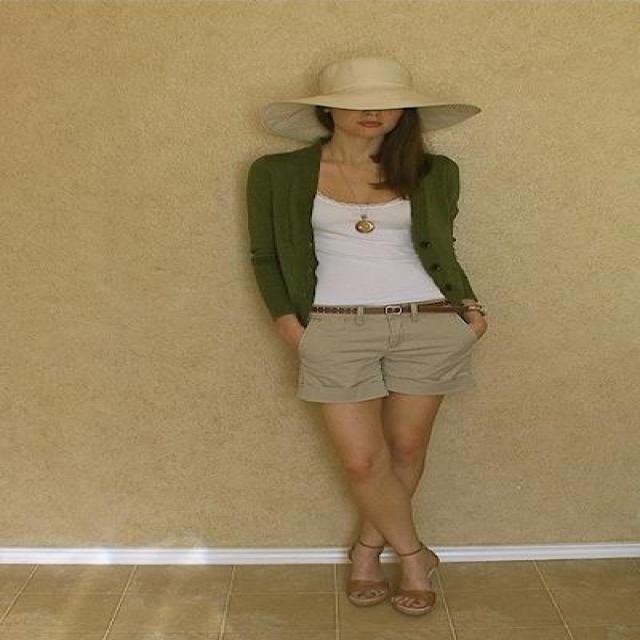hat: (326, 56, 478, 134)
jacket: (246, 136, 474, 319)
shirt: (312, 195, 443, 305)
shoe: (336, 556, 448, 618)
shorts: (300, 298, 470, 408)
